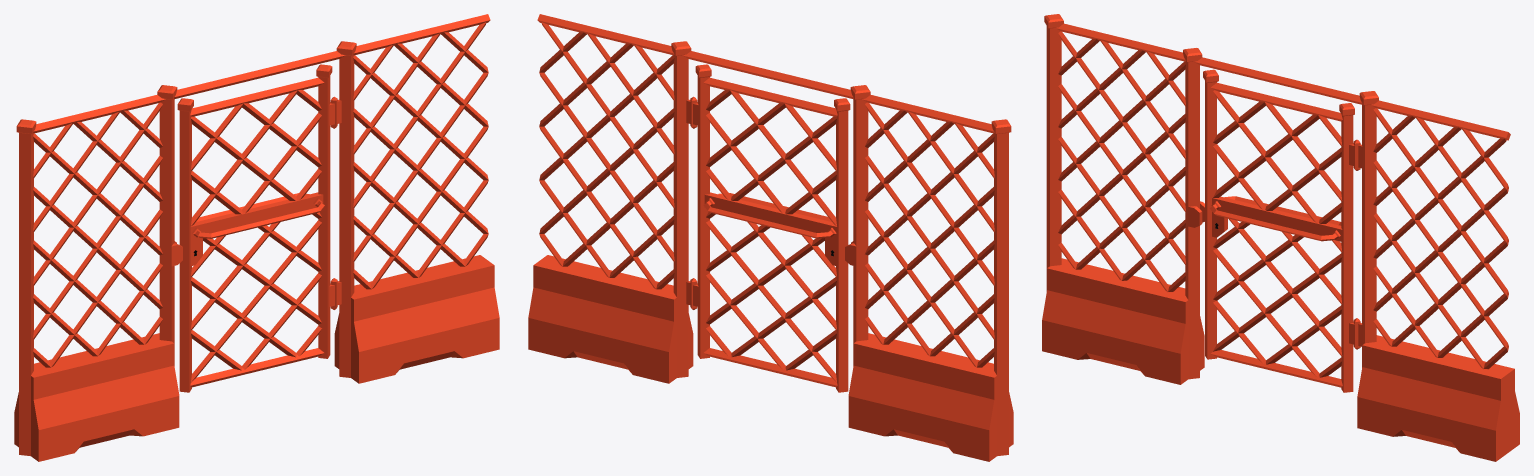
Rendered from SM_Fence_Construction_Door_Low_City.fbx.
The picture shows the model from 3 angles, left to right: view 1: azimuth 30°, elevation 25°; view 2: azimuth 150°, elevation 25°; view 3: azimuth 330°, elevation 25°; orthographic projection.
Parts seen in each view (by area): view 1: SM_Fence_Construction_Door_Low_City_Base, SM_Fence_Construction_Door_Low_City_Door; view 2: SM_Fence_Construction_Door_Low_City_Base, SM_Fence_Construction_Door_Low_City_Door; view 3: SM_Fence_Construction_Door_Low_City_Base, SM_Fence_Construction_Door_Low_City_Door.
Part boxes in pixels (left/top/right/bottom): SM_Fence_Construction_Door_Low_City_Base: left=14, top=14, right=499, bottom=461; SM_Fence_Construction_Door_Low_City_Door: left=177, top=64, right=337, bottom=392; SM_Fence_Construction_Door_Low_City_Base: left=528, top=14, right=1013, bottom=461; SM_Fence_Construction_Door_Low_City_Door: left=690, top=64, right=850, bottom=392; SM_Fence_Construction_Door_Low_City_Base: left=1042, top=14, right=1519, bottom=461; SM_Fence_Construction_Door_Low_City_Door: left=1203, top=69, right=1360, bottom=392.
Size of the model in its own units: 3.06 by 2.05 by 0.2748.
